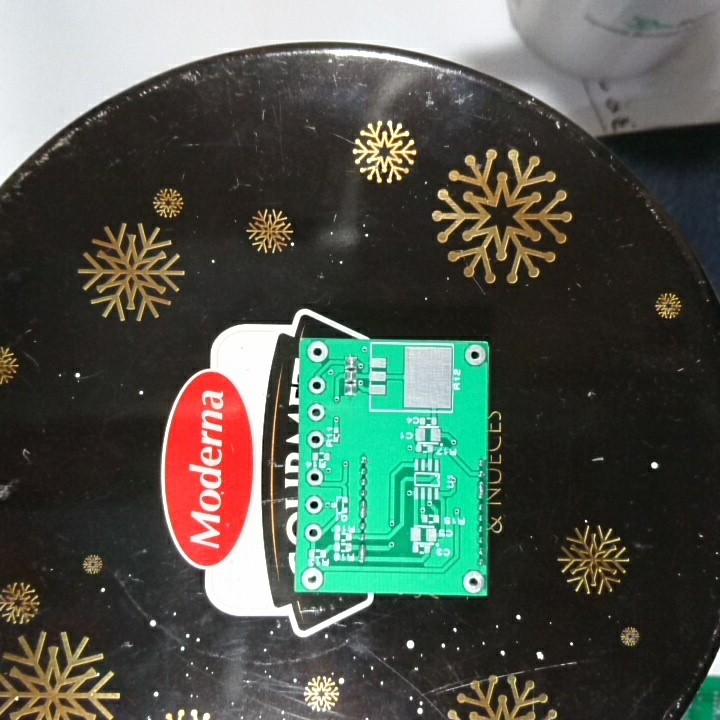F: (297, 563, 325, 592), (459, 566, 485, 595), (461, 343, 487, 370), (305, 340, 331, 364), (304, 492, 325, 518), (305, 401, 328, 424), (303, 521, 325, 545), (304, 466, 326, 489), (305, 428, 325, 450), (307, 375, 327, 396)
P: (356, 543, 368, 567), (357, 498, 370, 520), (476, 480, 487, 502)
